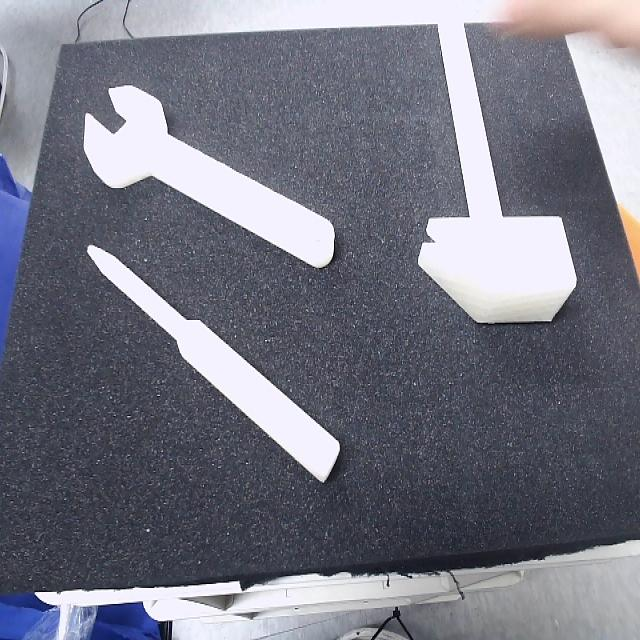Driver: (85, 247, 341, 484)
Hammer: (420, 13, 578, 324)
Spanner: (83, 87, 335, 271)
